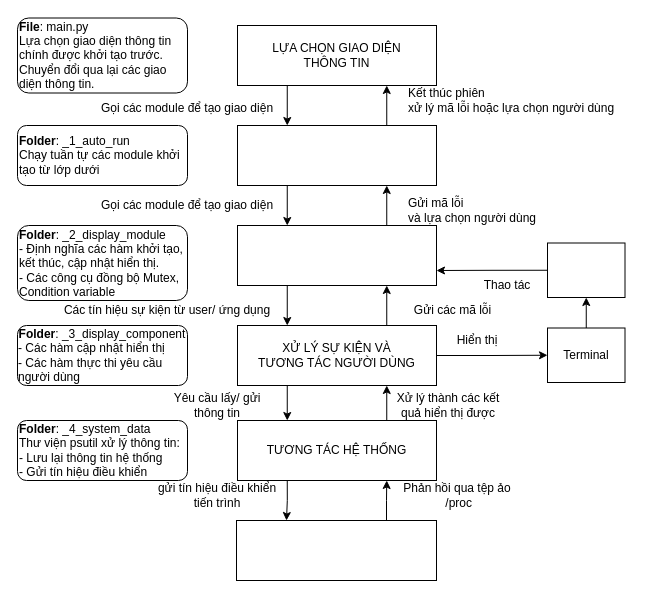
Image size: 645x598. Some labels were removed from this diagram. Each missing label, with the centre of its shape:
"KERNEL MODE" belongs at (x=336, y=550).
"KHỞI TẠO GIAO DIỆN VÀ THREADS HỖ TRỢ" belongs at (x=336, y=155).
"User" belongs at (x=585, y=270).
"ĐỊNH NGHĨA CÁC MODULE GIAO DIỆN VÀ ĐỒNG BỘ" belongs at (x=336, y=255).
